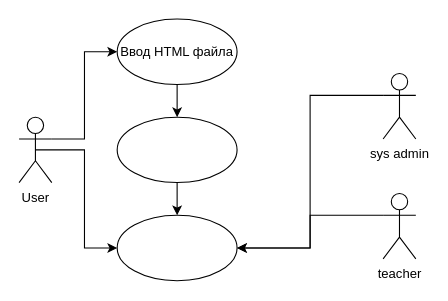
The diagram is 448 pixels wide and 301 high, and some of its shapes have lost their labels. The shapes that lost their labels are listed below. From the top down, each one's centre as x and y in pixels, then its label:
the point at 176,149: Парсинг
the point at 176,247: AST
